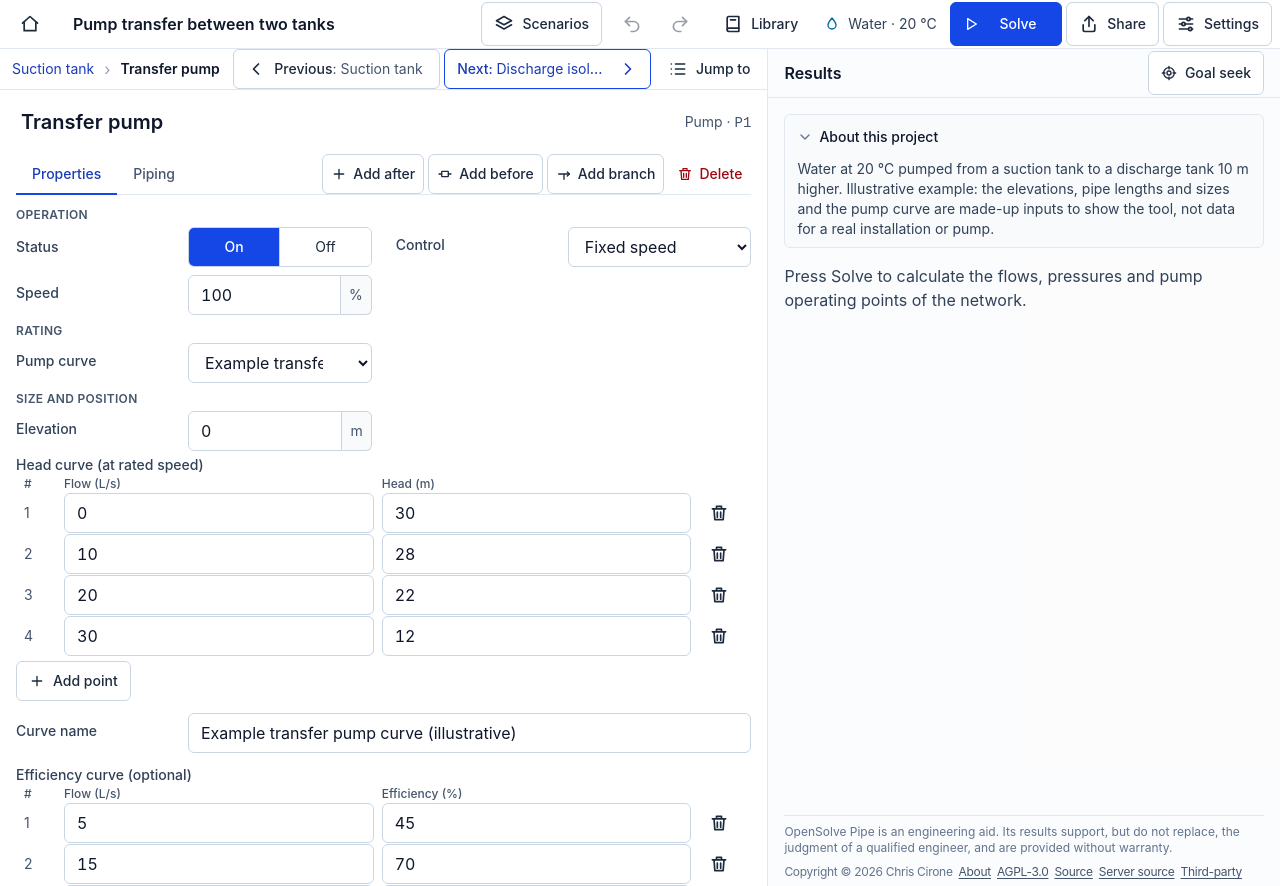
adding an equipment item › before a pump (inserted): the rating is asked for there too, a Cv stored as entered
Click the button "Add before" at (485, 174), box x1=428 y1=154 x2=543 y2=194
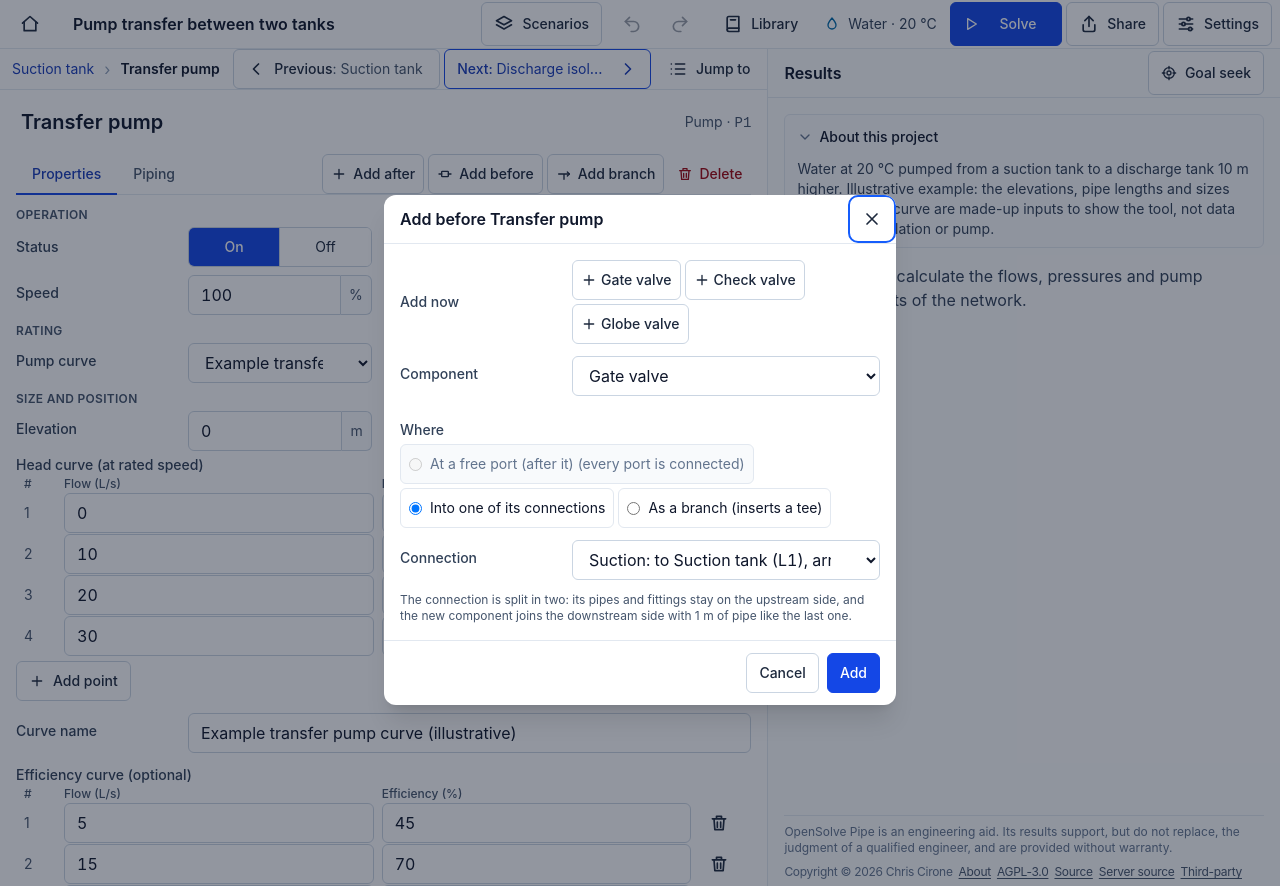
Select "Equipment (rated pressure drop)" in the dropdown labelled "Component" at (726, 376), box x1=572 y1=356 x2=880 y2=396
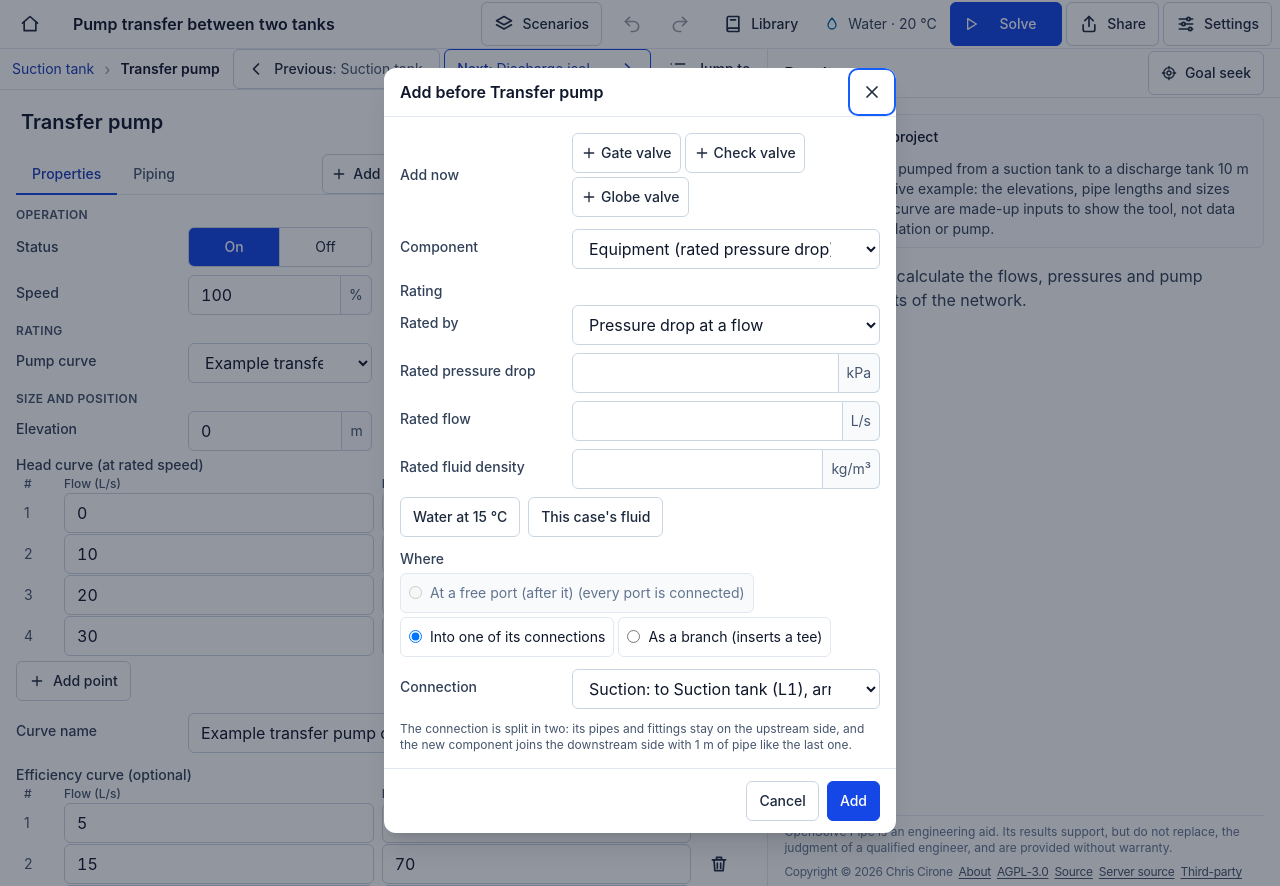
Select "Cv (US flow coefficient)" in the dropdown labelled "Rated by" at (726, 324), box x1=572 y1=304 x2=880 y2=344
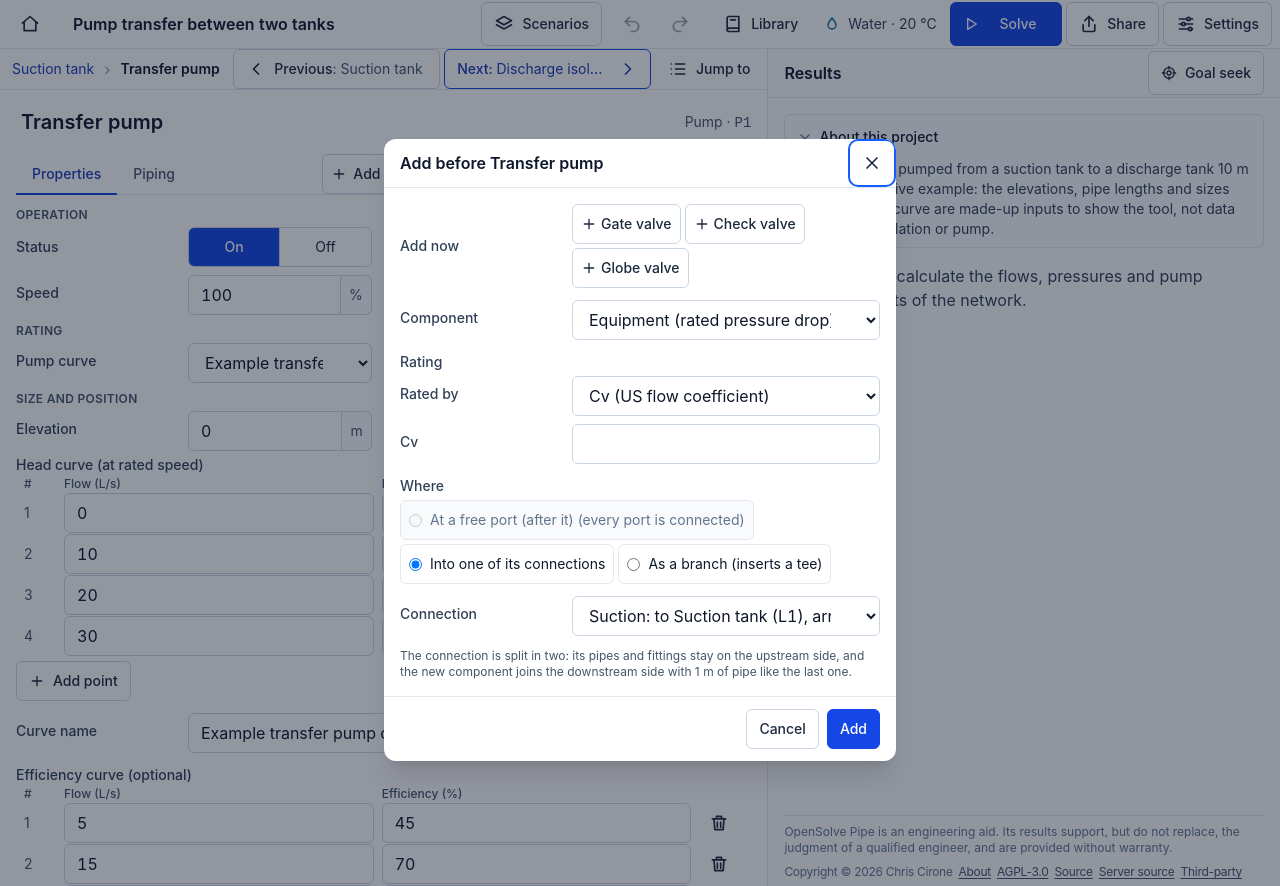
Click the button "Add" at (853, 729), box x1=827 y1=709 x2=880 y2=749
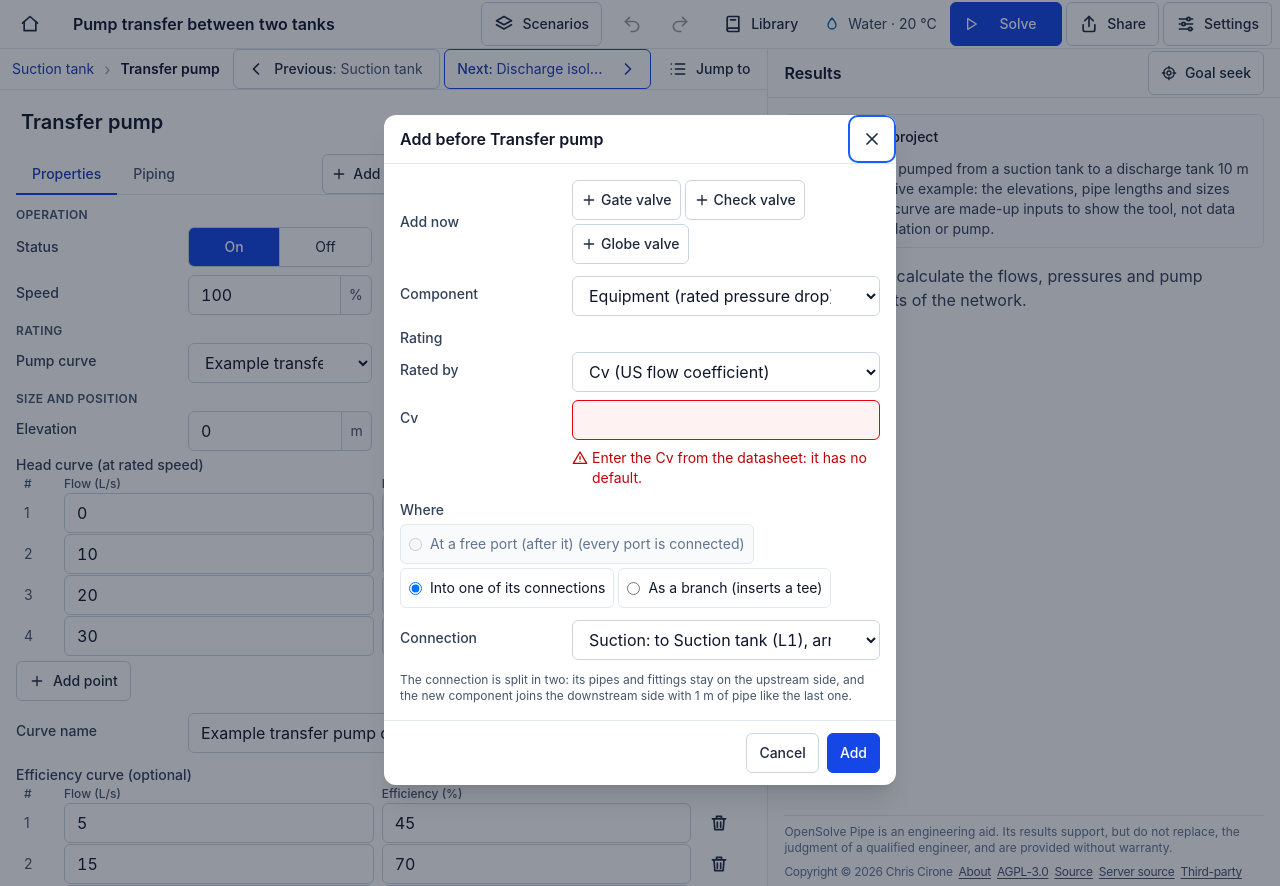
Result: the message reads "Enter the Cv from the datasheet: it has no default." at x1=592 y1=449 x2=867 y2=486
Type "80" into the field labelled "Cv" at (726, 420), box x1=572 y1=400 x2=880 y2=440
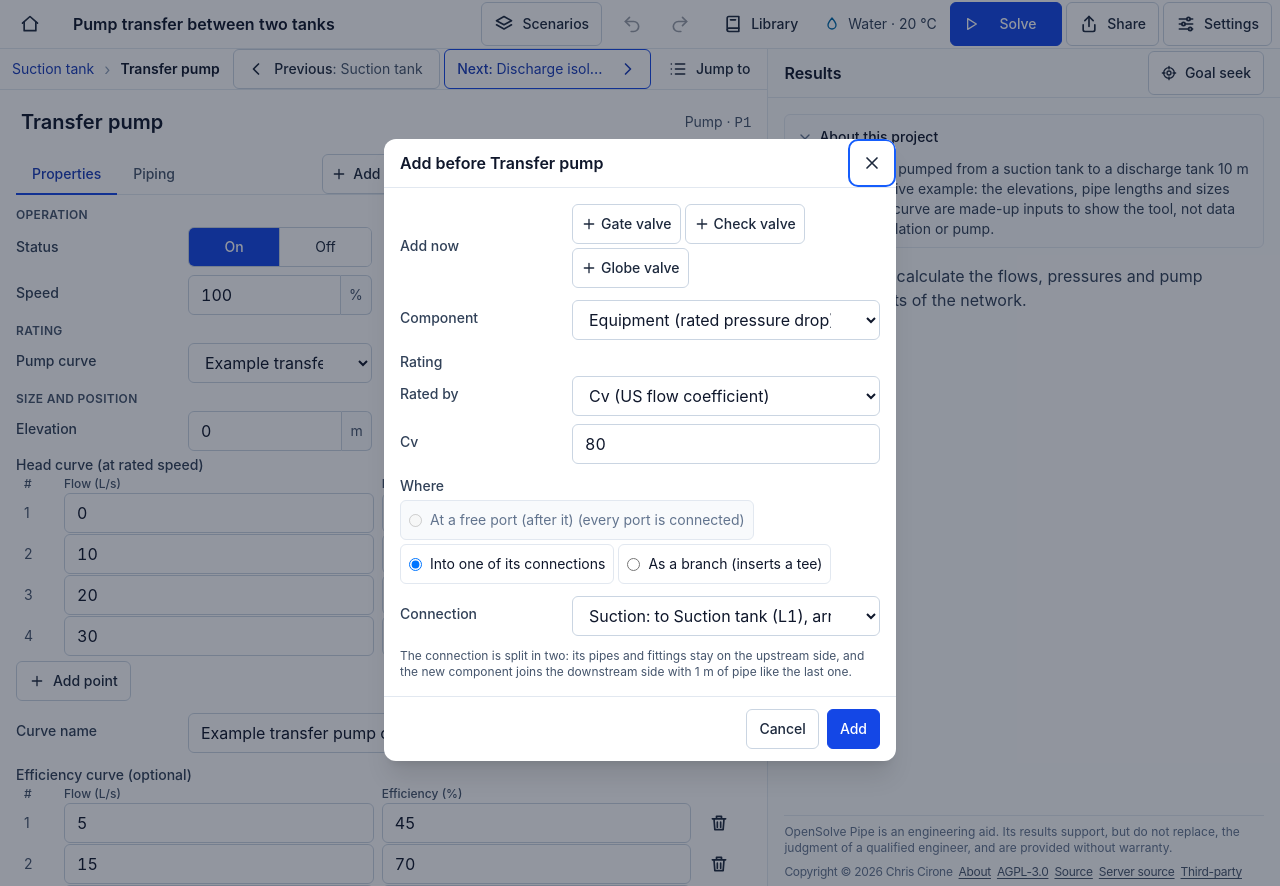
Click the button "Add" at (853, 729), box x1=827 y1=709 x2=880 y2=749
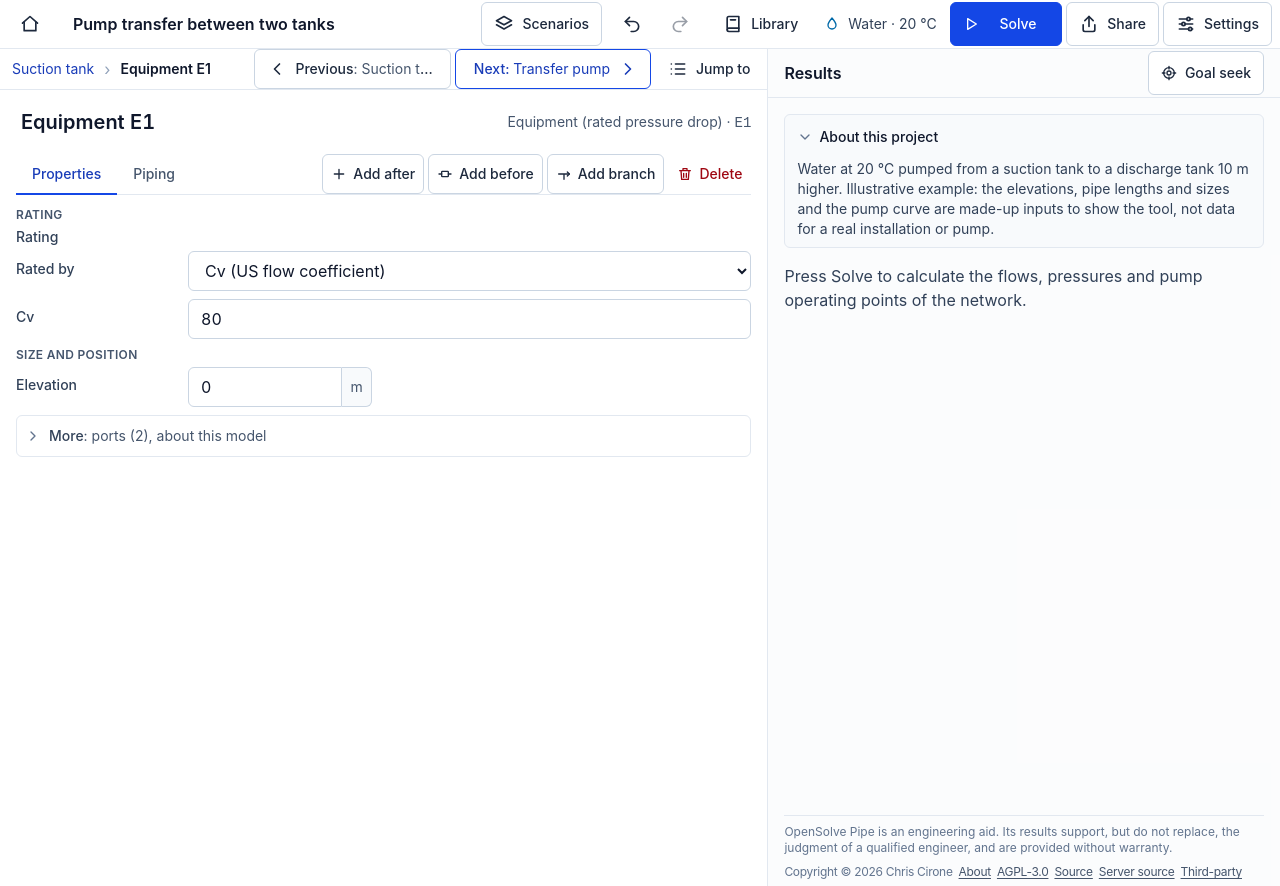
Result: the dialog is gone
